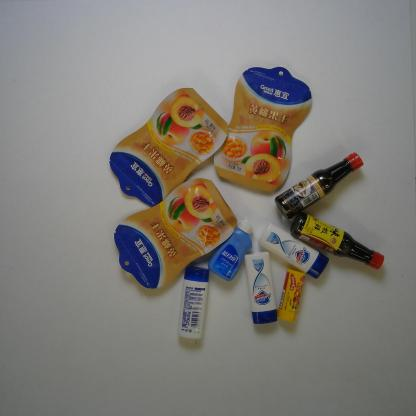Candy: (276, 268, 306, 323)
Dried Fruit: (108, 87, 230, 207), (113, 177, 238, 291), (212, 66, 314, 194)
Personal Hygiene: (257, 223, 330, 280), (207, 216, 253, 282), (176, 265, 210, 340), (244, 251, 278, 325)
Seasoner: (274, 150, 364, 221), (290, 212, 386, 271)
